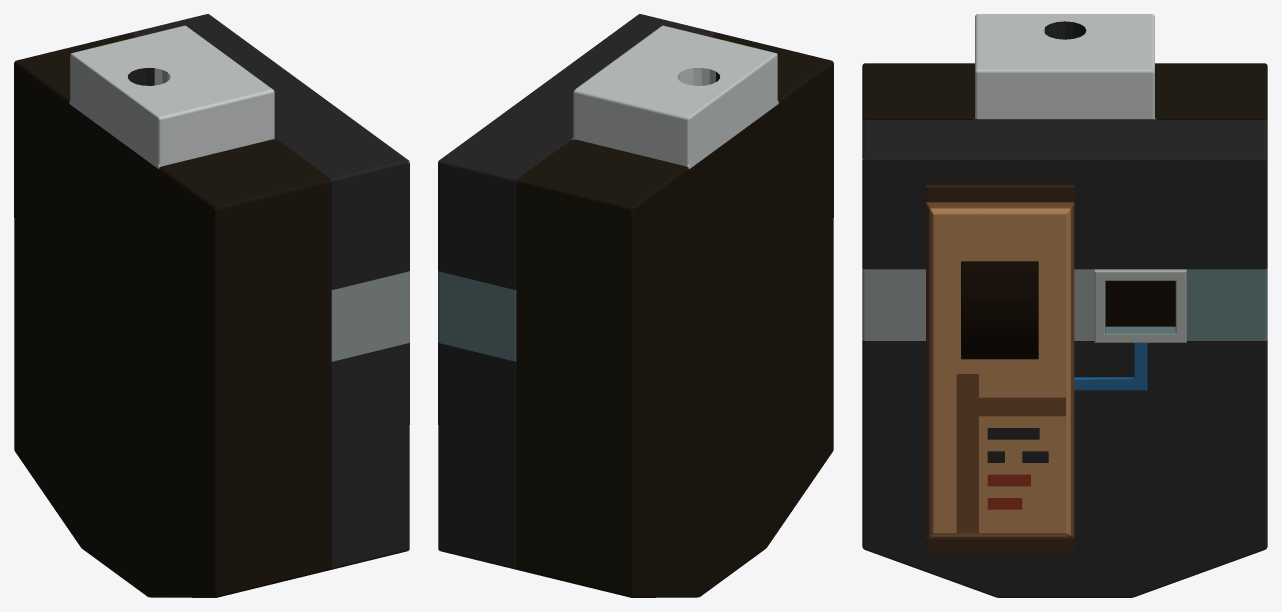
File: CircuitBreakerSmall_BuildState1.fbx
3 views of the same model, side by side, from view 1: azimuth 30°, elevation 25°; view 2: azimuth 150°, elevation 25°; view 3: azimuth 270°, elevation 25° (orthographic).
Parts seen in each view (by area): view 1: CircuitBreakerSmall_BuildState1; view 2: CircuitBreakerSmall_BuildState1; view 3: CircuitBreakerSmall_BuildState1.
Part boxes in pixels (left/top/right/bottom): CircuitBreakerSmall_BuildState1: left=14, top=14, right=409, bottom=597; CircuitBreakerSmall_BuildState1: left=438, top=14, right=833, bottom=597; CircuitBreakerSmall_BuildState1: left=862, top=14, right=1267, bottom=597.
Size of the model in its own units: 0.375 by 0.5 by 0.2416.
